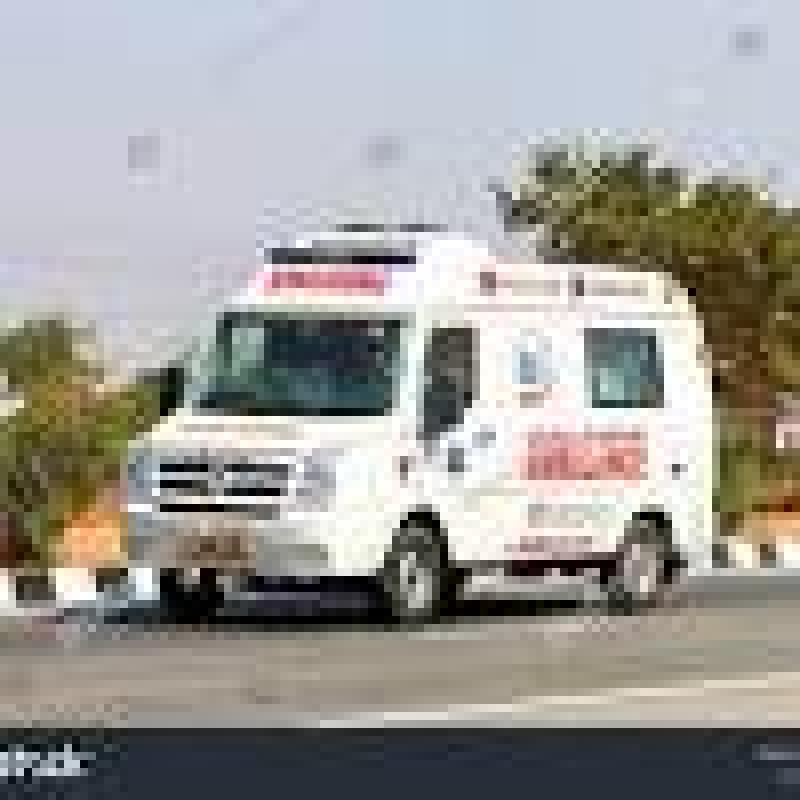ambulance: (86, 202, 762, 667)
